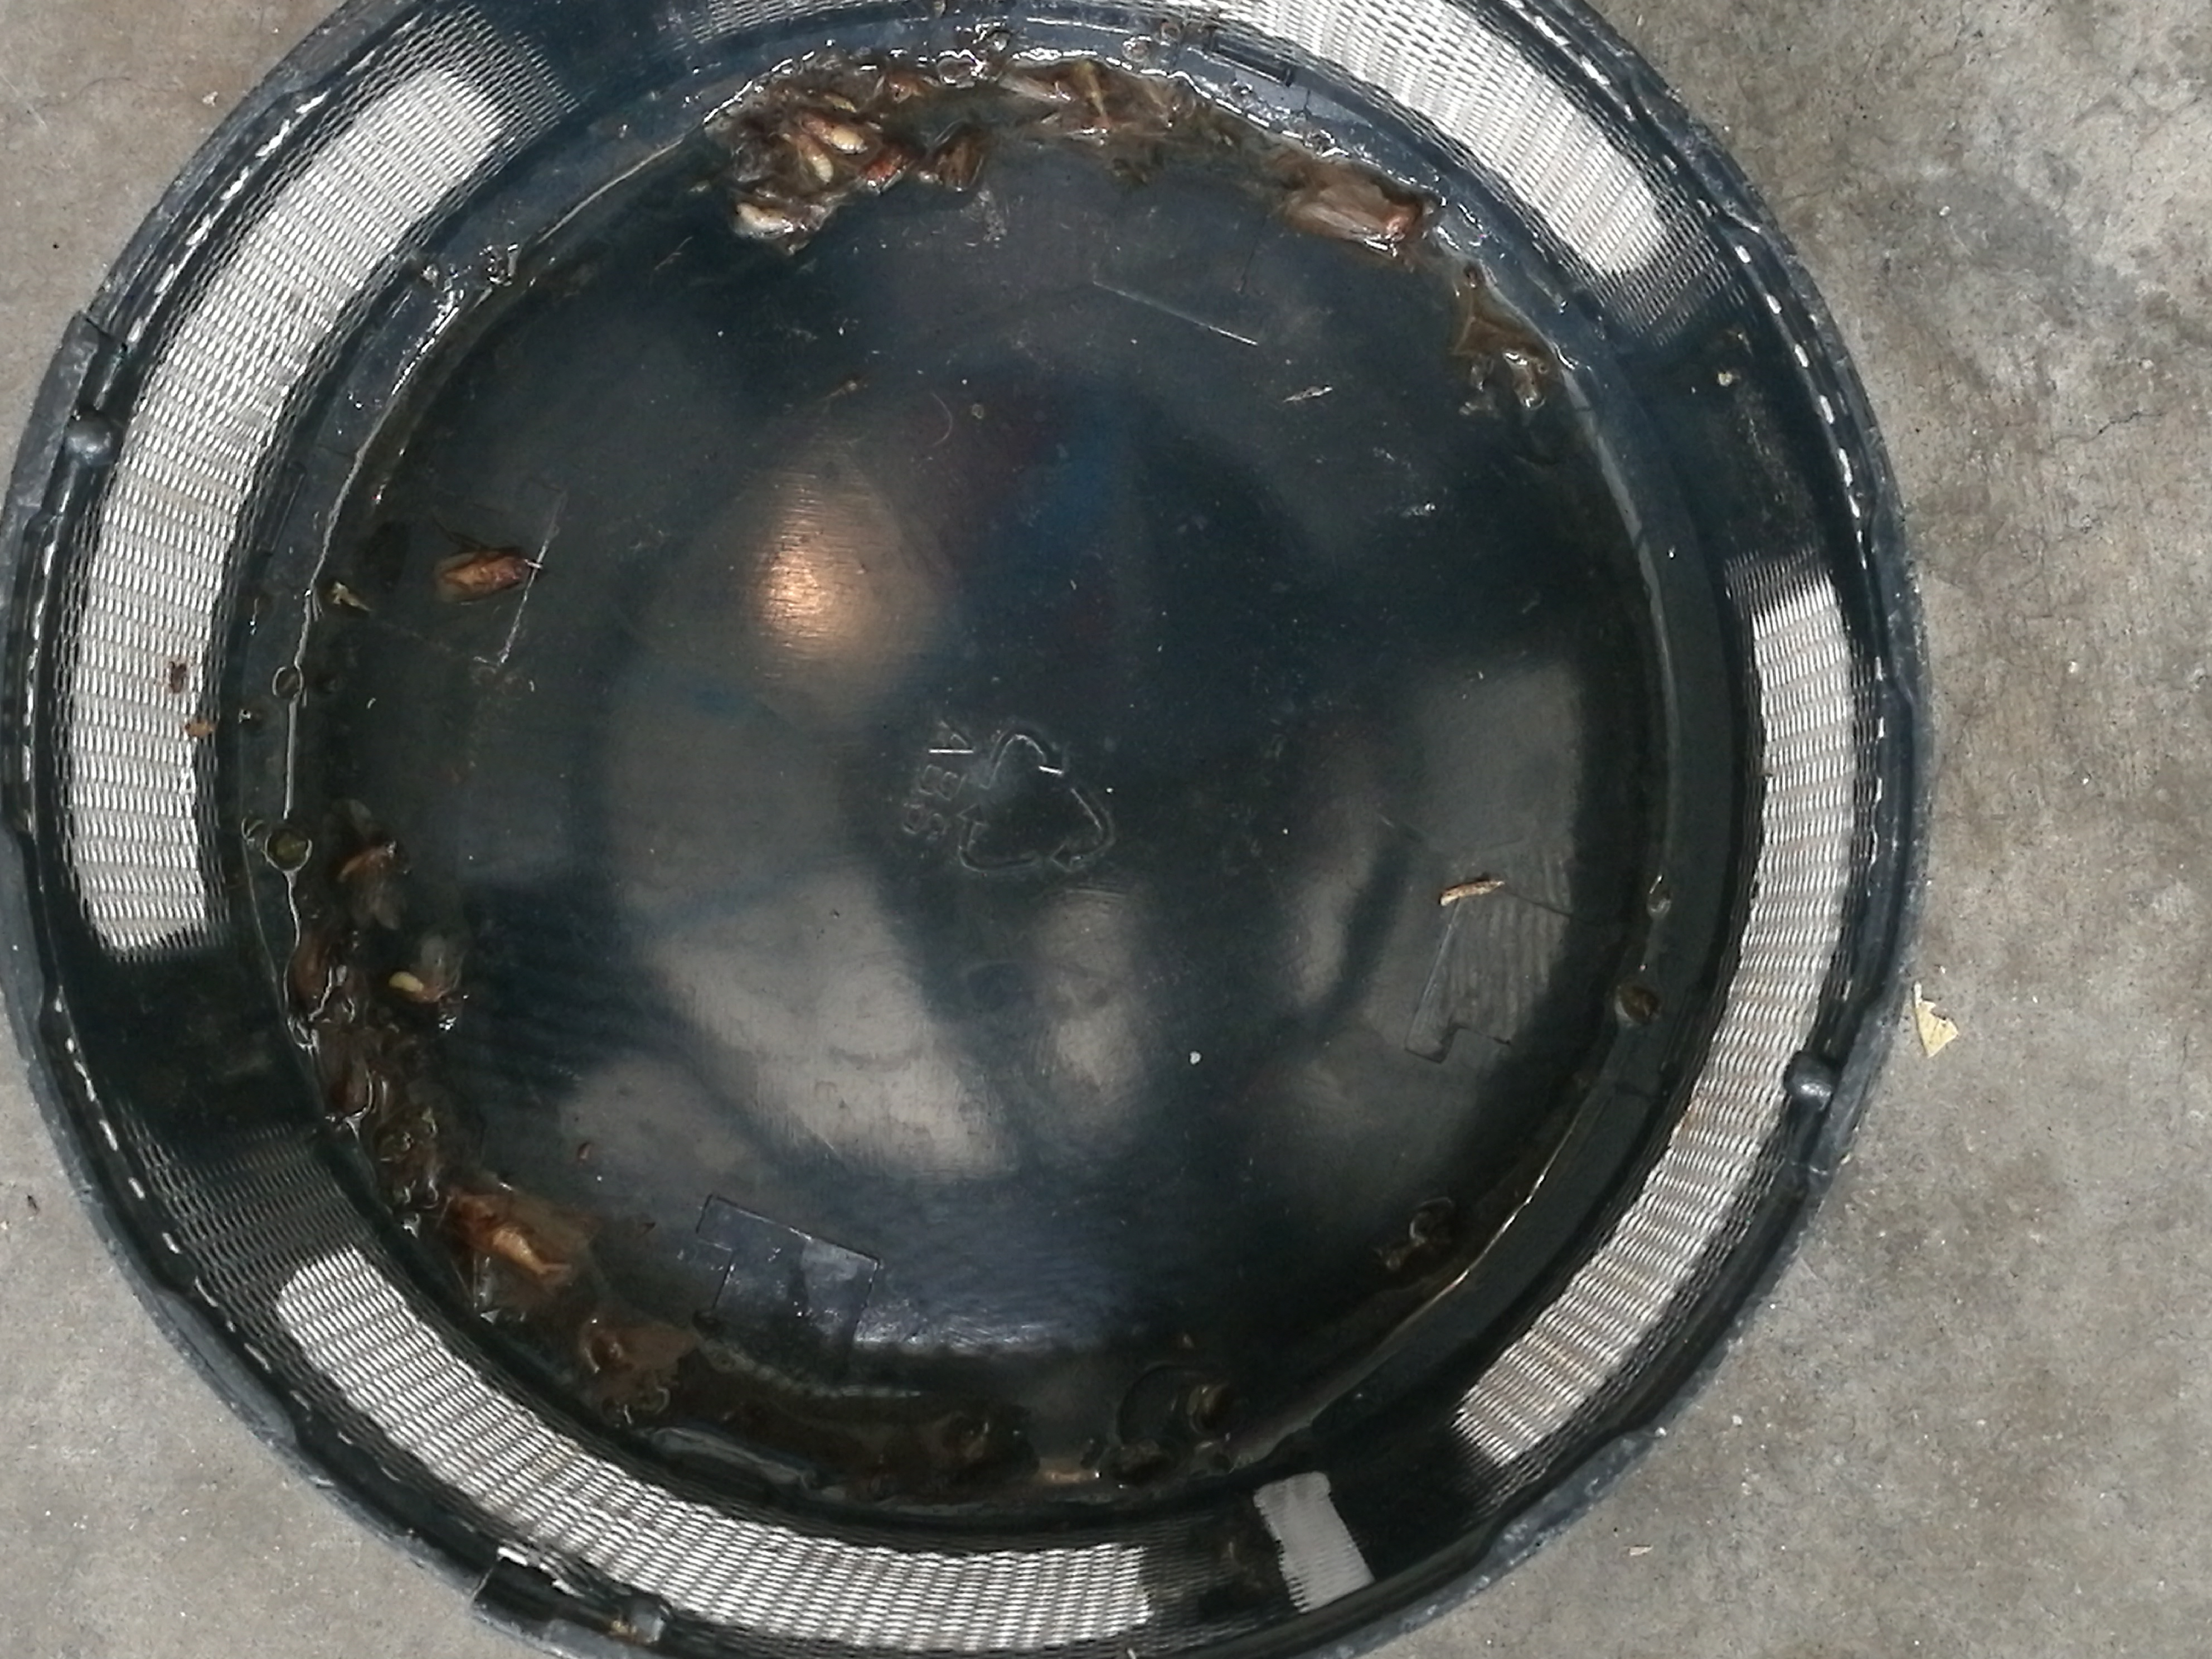moth: (449, 1192, 596, 1305), (1277, 167, 1418, 237), (437, 549, 531, 603)
